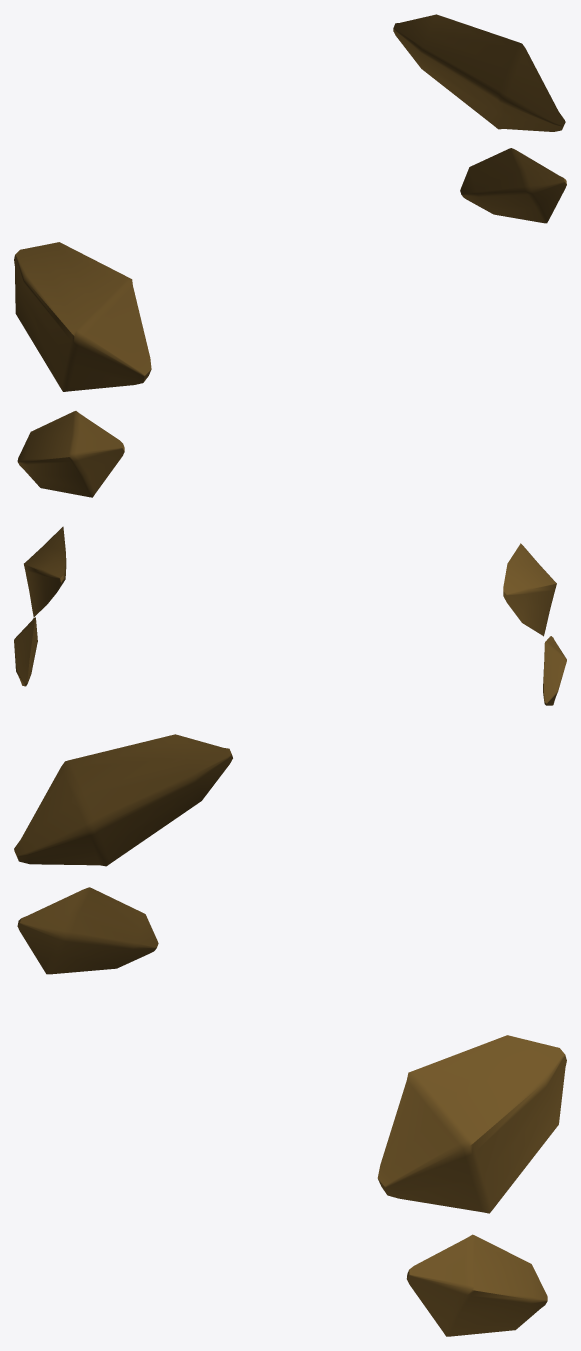
The picture shows the model from 3 angles, top to bottom: view 1: azimuth 30°, elevation 25°; view 2: azimuth 150°, elevation 25°; view 3: azimuth 270°, elevation 25°; orthographic projection. The views are drawn at different scales.
Visible parts, largest first — view 1: side_face_decor; view 2: side_face_decor; view 3: side_face_decor.
Boxes of the visible parts, left/top/right/bottom form: side_face_decor: left=14, top=14, right=566, bottom=497; side_face_decor: left=14, top=526, right=566, bottom=705; side_face_decor: left=14, top=734, right=566, bottom=1336.
Bounding box in the file's own units: 99.4 × 60.27 × 31.24.
